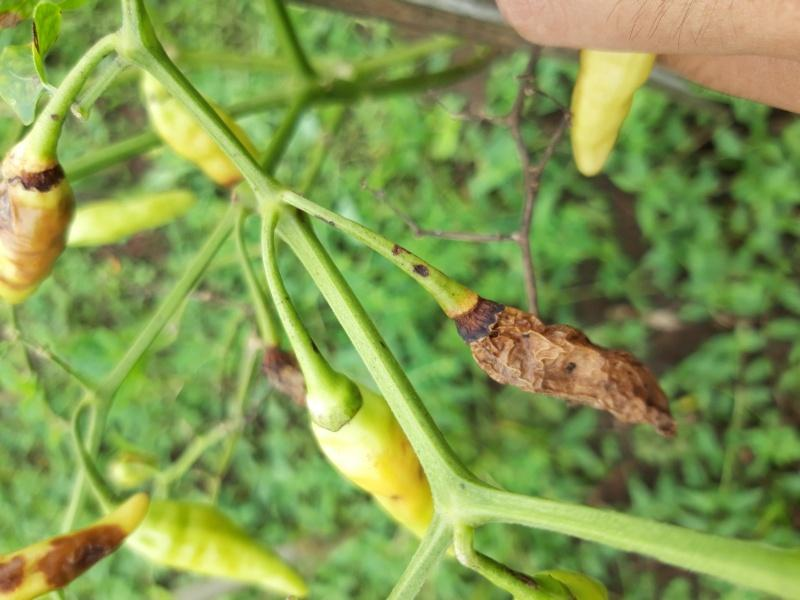antraknosa: (474, 307, 675, 434), (1, 493, 148, 600), (1, 177, 75, 303)
cabai_normal: (296, 375, 436, 535), (130, 491, 310, 600), (565, 50, 657, 175), (64, 187, 193, 245)
